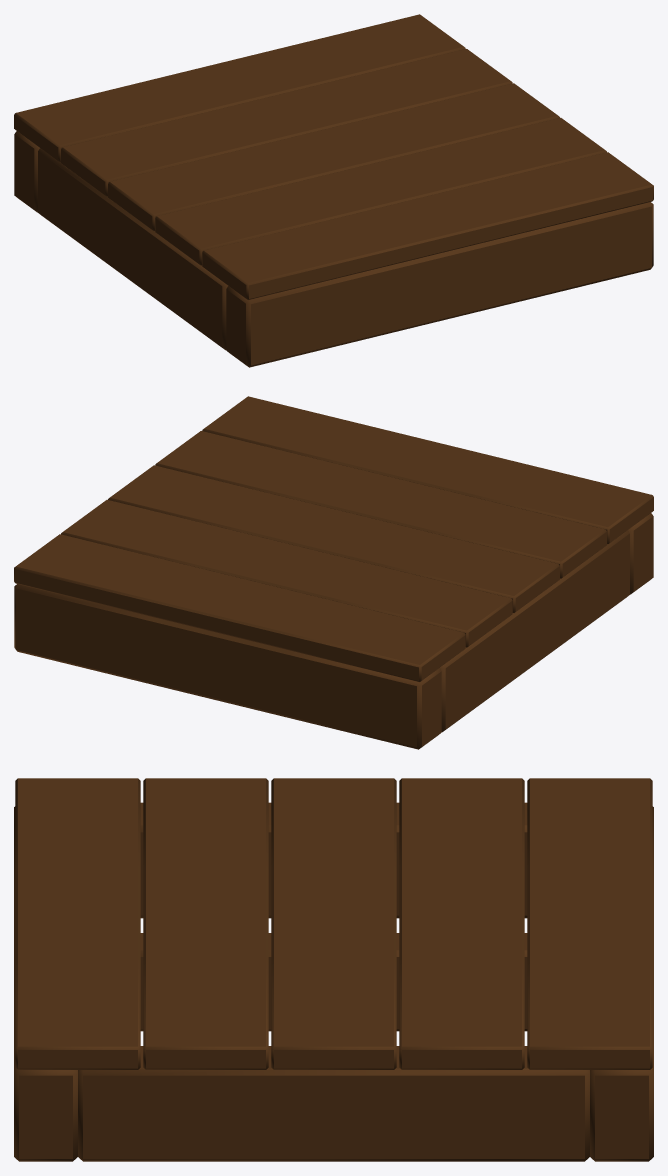
File: podest_holz.glb
3 views of the same model, one above another, from view 1: azimuth 30°, elevation 25°; view 2: azimuth 150°, elevation 25°; view 3: azimuth 270°, elevation 25° (orthographic). The views are drawn at different scales.
Visible parts, largest first — view 1: podest_holz; view 2: podest_holz; view 3: podest_holz.
Boxes of the visible parts, x1=… form: podest_holz: x1=14, y1=14, x2=653, y2=367; podest_holz: x1=14, y1=396, x2=653, y2=749; podest_holz: x1=14, y1=778, x2=653, y2=1161.
Bounding box in the file's own units: 1 × 0.2 × 1.
